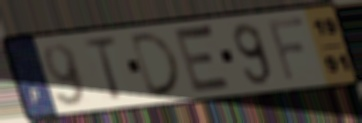9: (41, 41, 88, 108), (232, 21, 273, 87)
D: (128, 29, 184, 100)
E: (171, 22, 235, 96)
F: (265, 14, 308, 85)
T: (80, 34, 124, 104)
